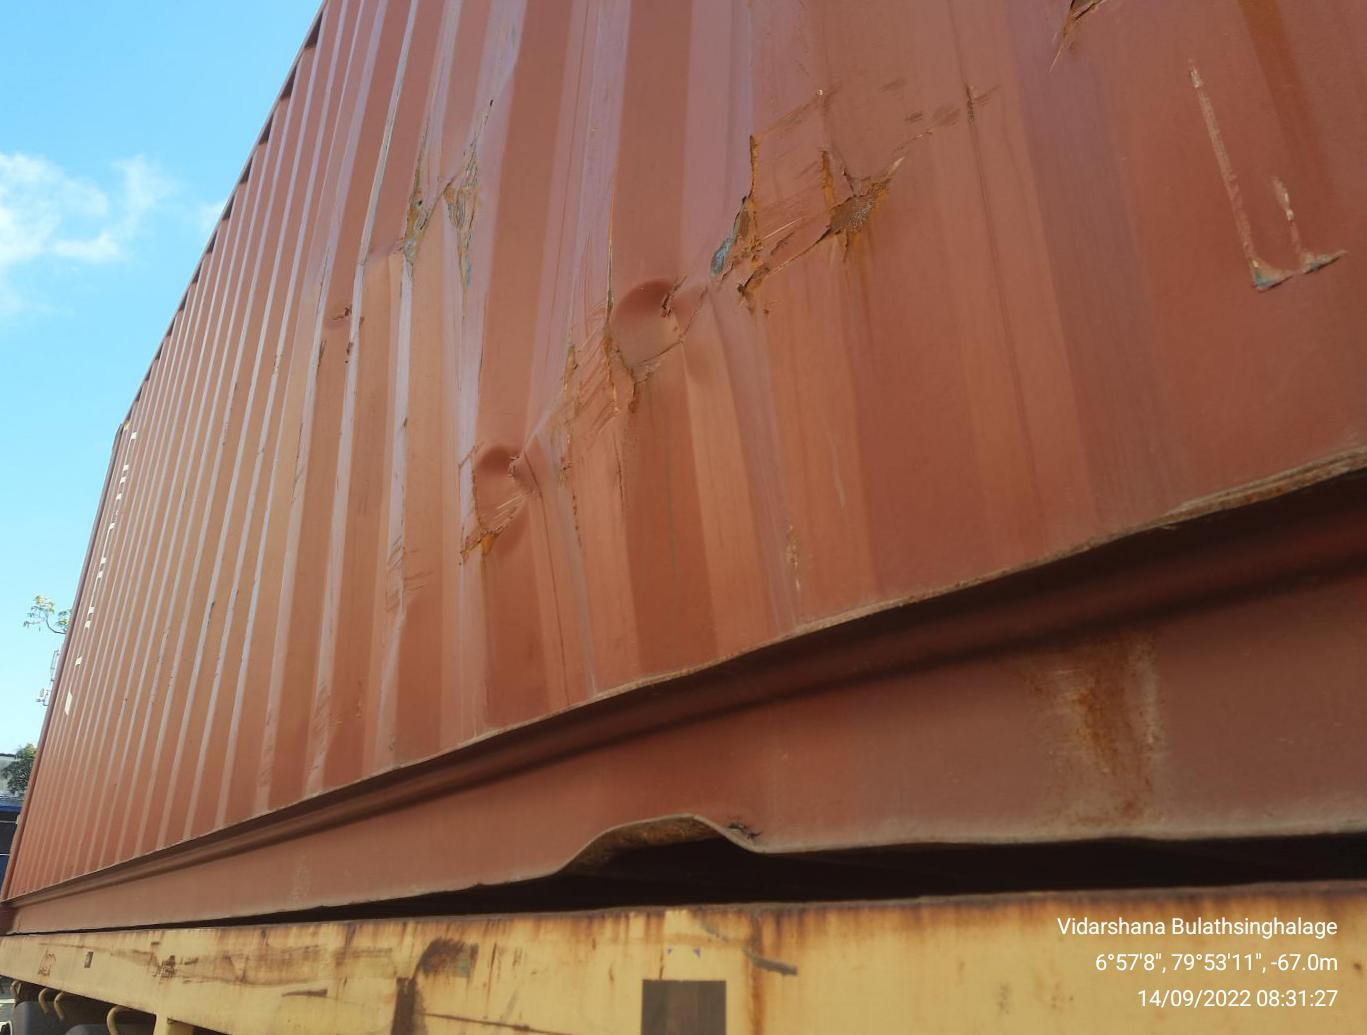moderate: (346, 40, 1083, 615)
